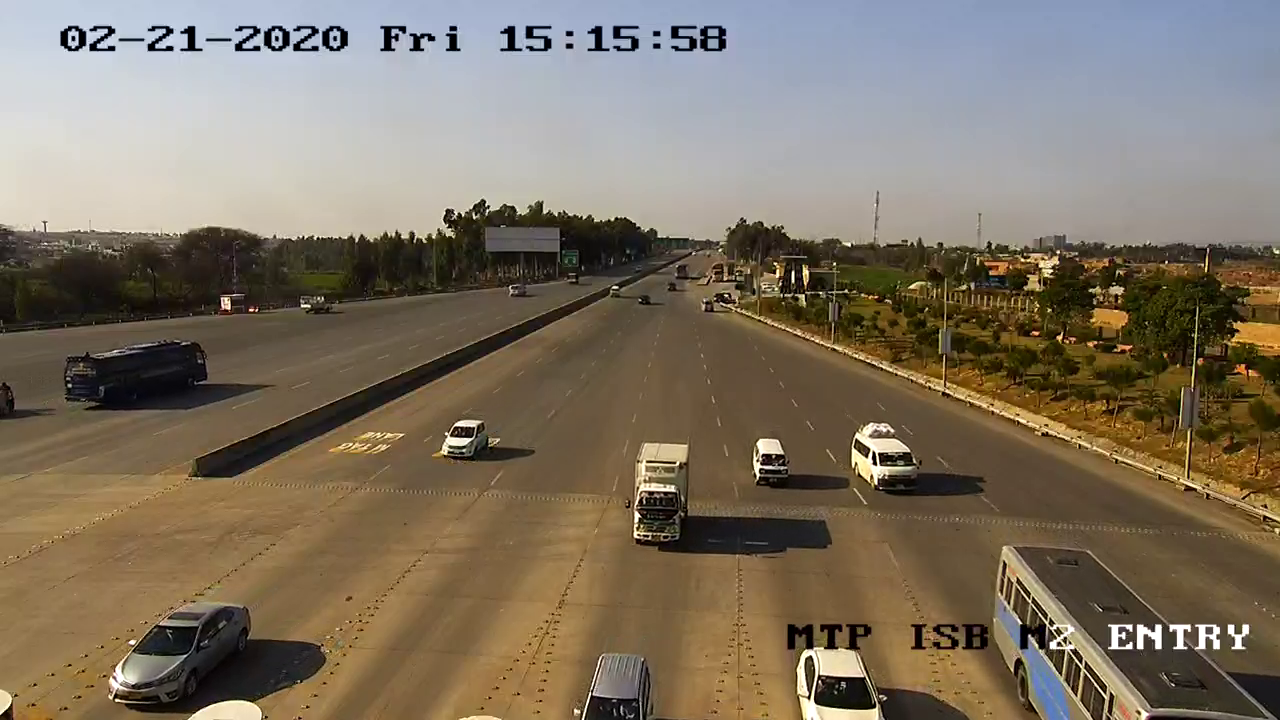f1: (100, 586, 259, 710), (434, 412, 497, 465), (745, 433, 797, 493)
f2: (842, 414, 930, 504)
f5: (620, 434, 705, 552)
